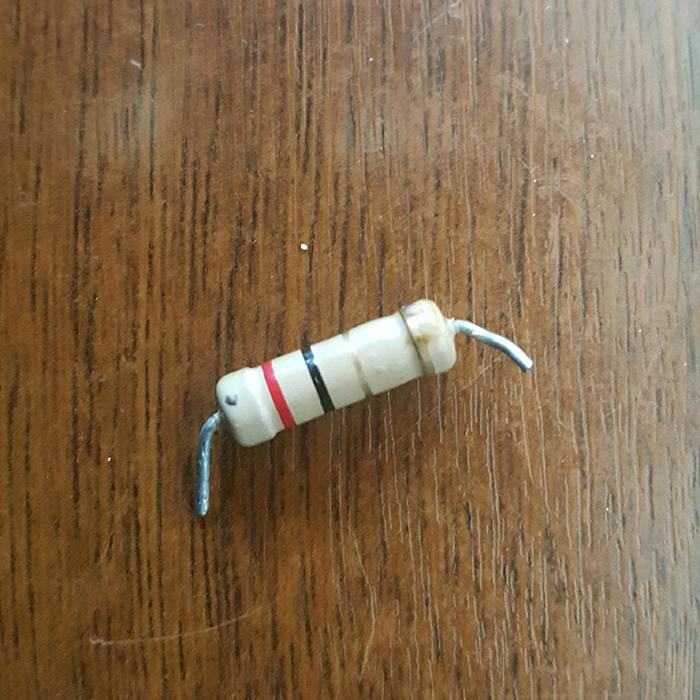resistor: (211, 295, 464, 453)
